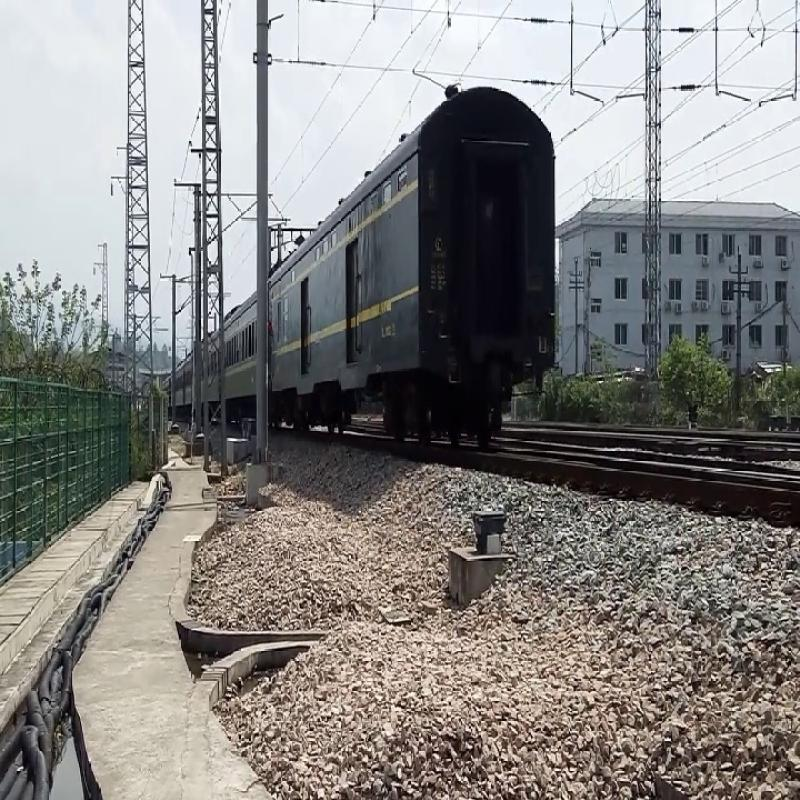train: (266, 172, 558, 417)
